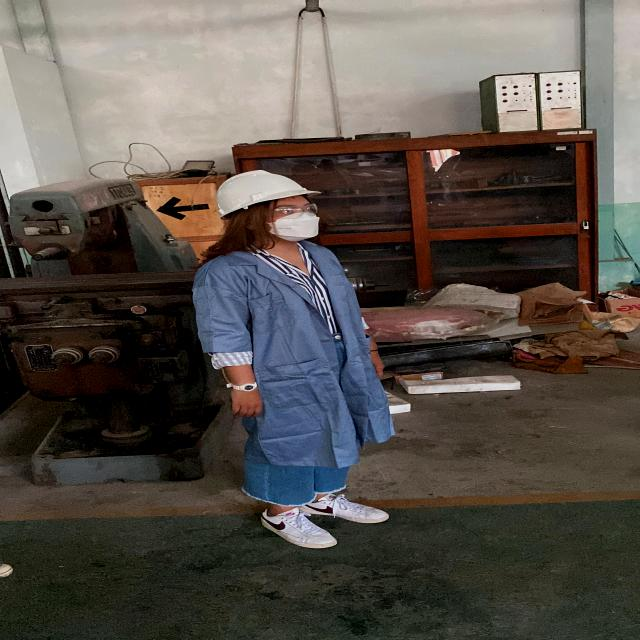face_mask: (266, 202, 322, 240)
glasses: (268, 200, 321, 220)
hand_noglove: (225, 386, 271, 419)
head_helmet: (214, 168, 326, 217)
person: (194, 163, 401, 554)
shoes: (246, 504, 338, 551), (291, 492, 391, 526)
